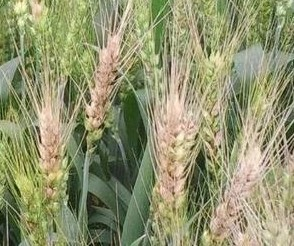Wheat scab: (81, 31, 123, 147)
